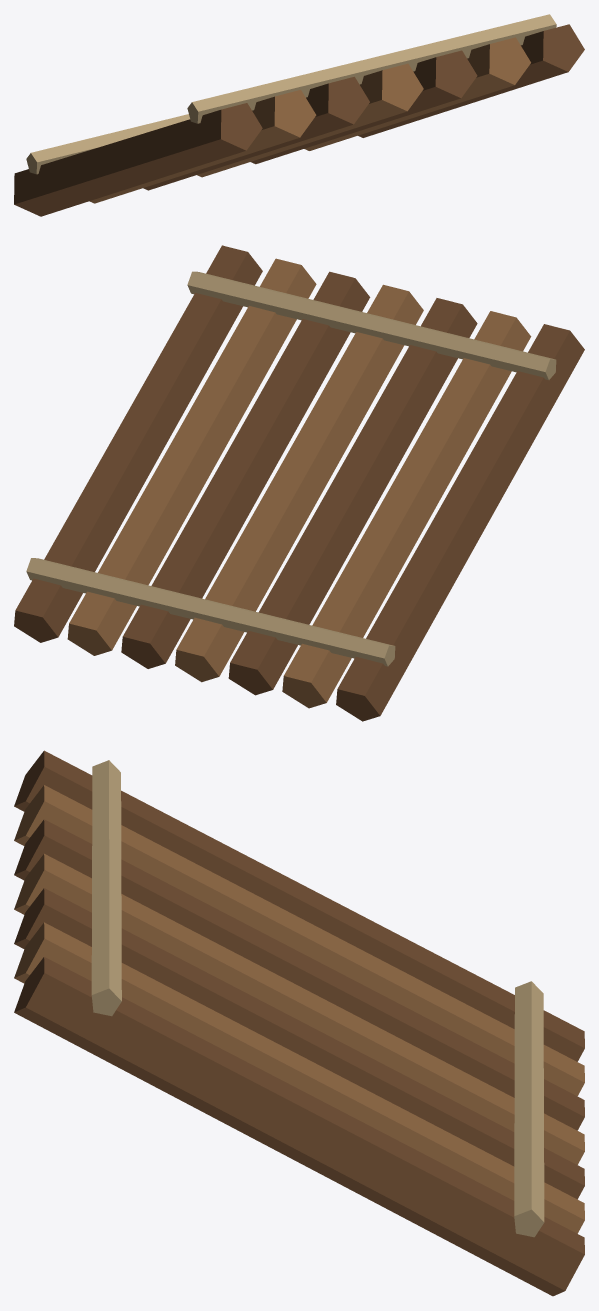
File: roof-log.glb
The picture shows the model from 3 angles, top to bottom: view 1: azimuth 30°, elevation 25°; view 2: azimuth 150°, elevation 25°; view 3: azimuth 270°, elevation 25°; orthographic projection. The views are drawn at different scales.
Parts seen in each view (by area): view 1: slab; view 2: slab; view 3: slab.
Part boxes in pixels (box(x1,y1,x2,y2)): slab: box(14, 14, 584, 216); slab: box(14, 245, 584, 721); slab: box(14, 750, 584, 1296).
Size of the model in its own units: 2.05 by 1.35 by 2.11.
